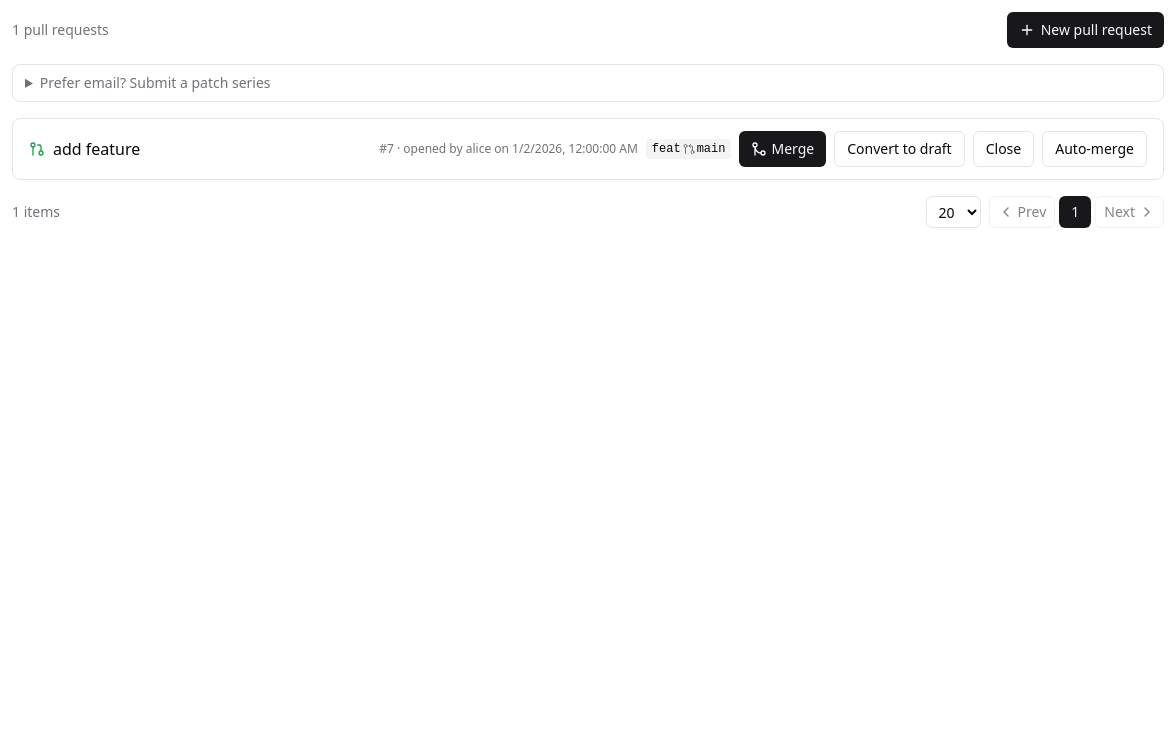
Test: RepoPulls detail hardening › 字段缺失/为 null 时不应白屏
Expected: the text "add feature" is shown, [53, 137, 140, 161]
What coordinates should you click on to do the following:
click the button "add feature"
I would click on:
 (97, 149)
Its box is [29, 137, 367, 161].
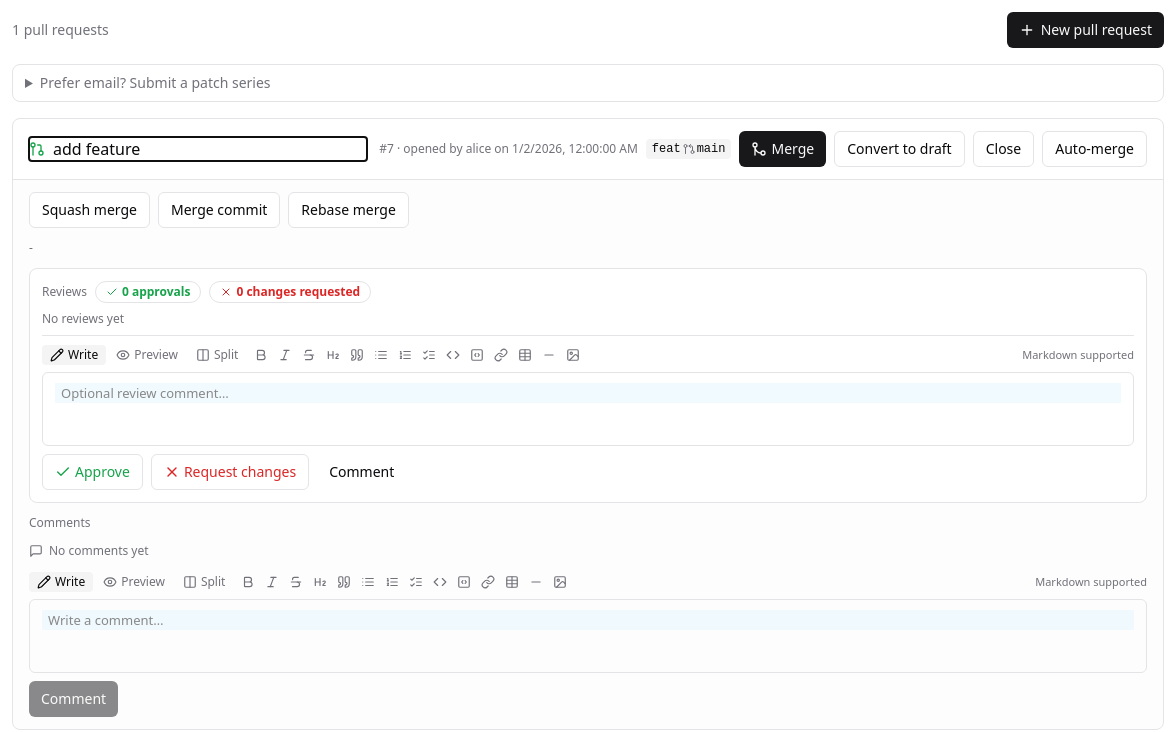
Expected: the text "Reviews" is shown, [42, 284, 87, 300]
